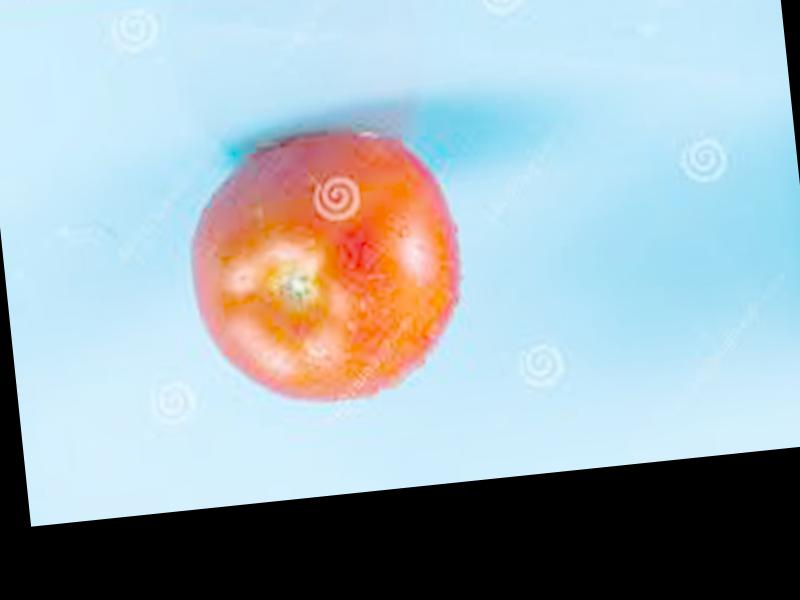Tomato: (175, 123, 473, 414)
